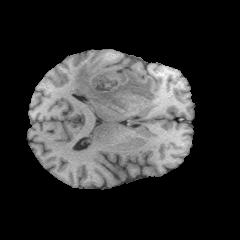glioma: (72, 64, 156, 114)
